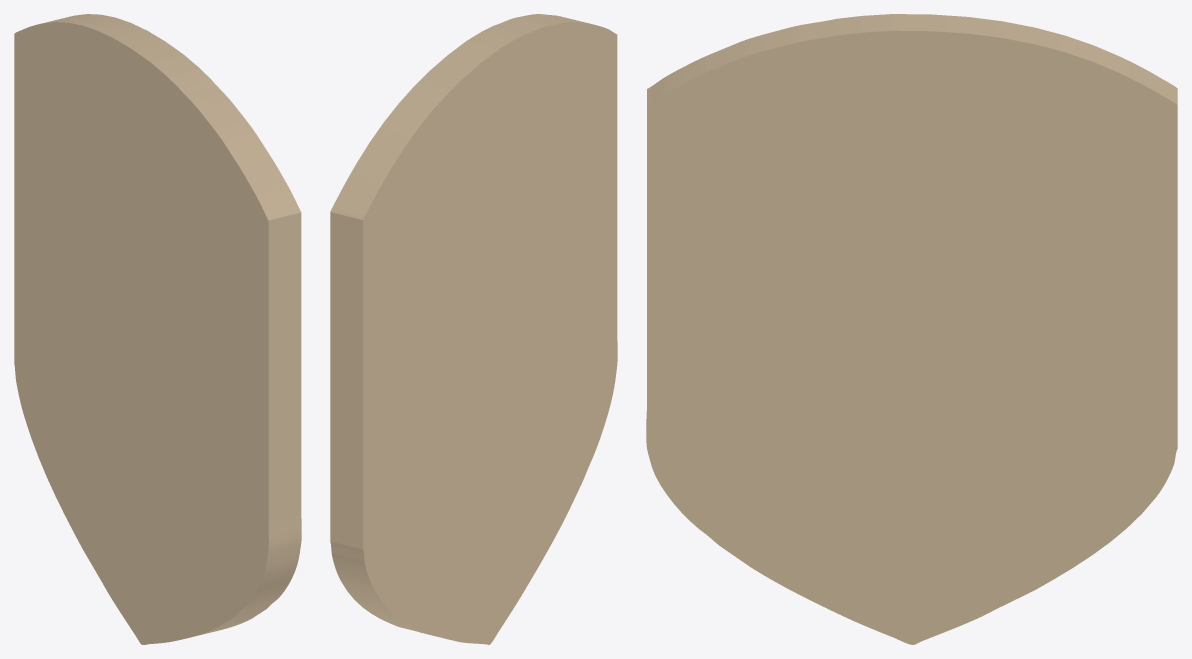
File: ConferenceRoom34.gltf
3 renders of one model, left to right at view 1: azimuth 30°, elevation 25°; view 2: azimuth 150°, elevation 25°; view 3: azimuth 270°, elevation 25°, orthographic. The views are drawn at different scales.
Parts seen in each view (by area): view 1: 室内-校徽（非）; view 2: 室内-校徽（非）; view 3: 室内-校徽（非）.
Boxes of the visible parts, bbox=[...] form: 室内-校徽（非）: bbox=[14, 14, 301, 644]; 室内-校徽（非）: bbox=[330, 14, 617, 644]; 室内-校徽（非）: bbox=[646, 14, 1177, 644].
Bounding box in the file's own units: 0.019 × 0.3246 × 0.2544.
